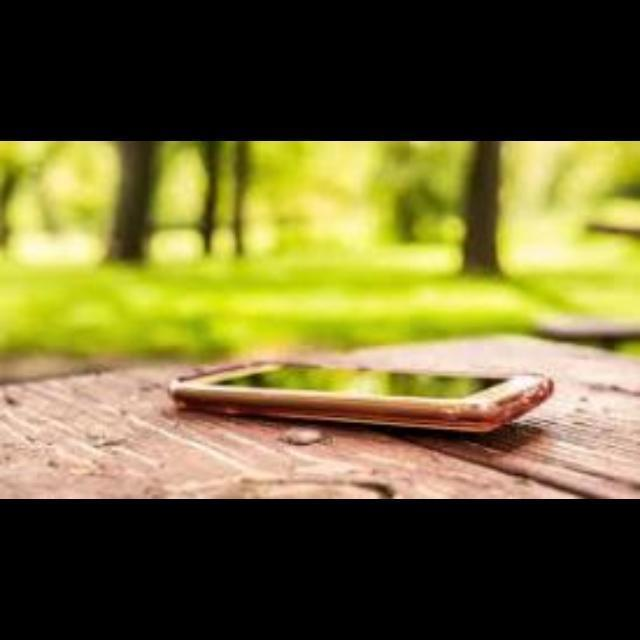phone: (195, 291, 558, 455)
